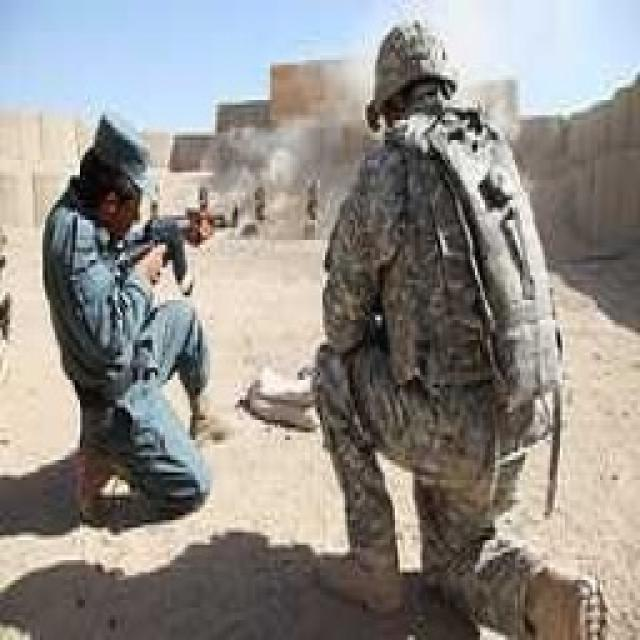long weapon: (99, 169, 276, 299)
